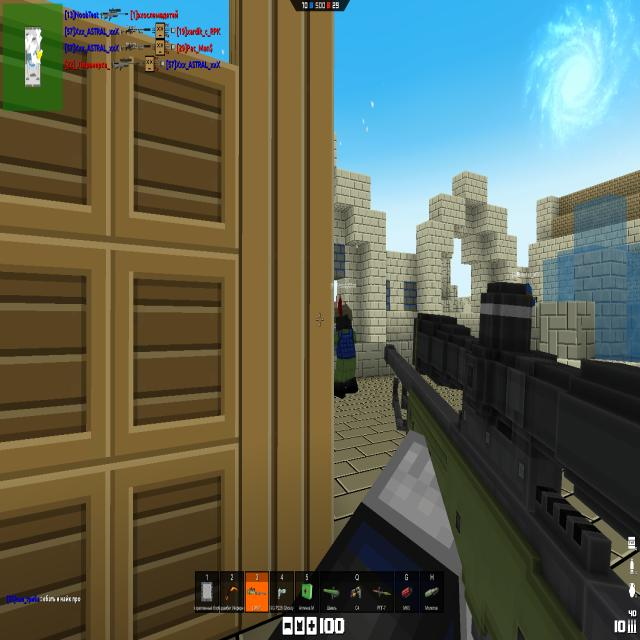player: (334, 293, 358, 399)
